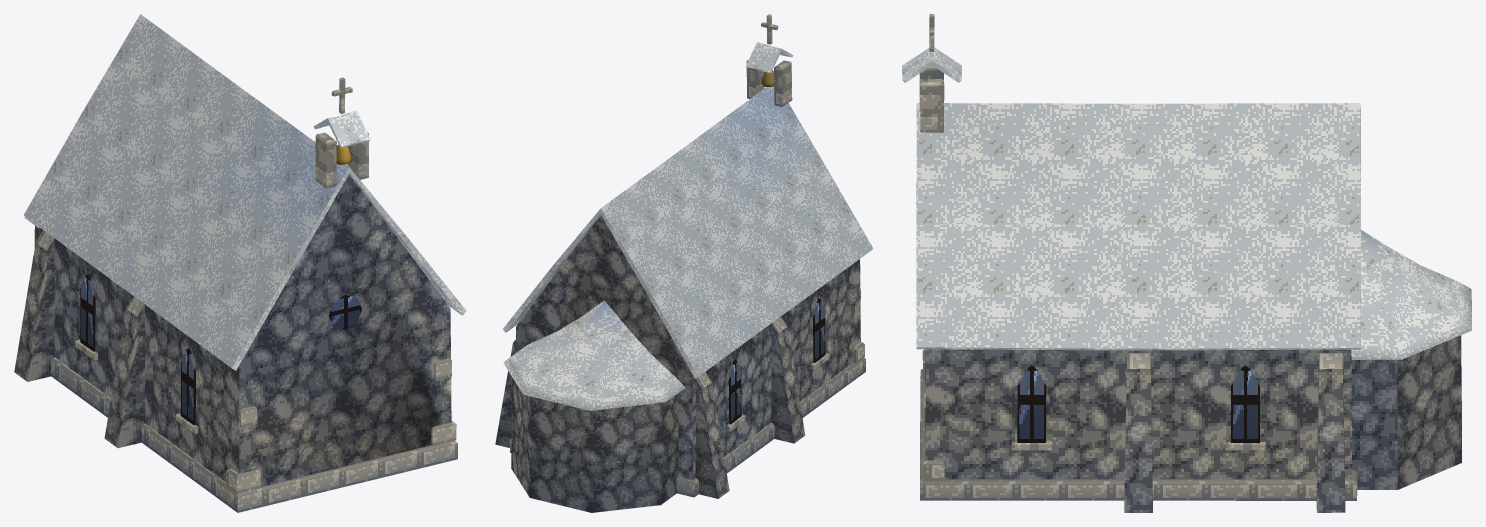
File: vlg.chapel__doorway.glb
3 views of the same model, side by side, from view 1: azimuth 30°, elevation 25°; view 2: azimuth 150°, elevation 25°; view 3: azimuth 270°, elevation 25° (orthographic). The views are drawn at different scales.
Visible parts, largest first — view 1: kit_roof, kit_walls, kit_stonework, kit_fittings; view 2: kit_roof, kit_walls, kit_stonework, kit_fittings; view 3: kit_roof, kit_walls, kit_stonework, kit_fittings.
Boxes of the visible parts, x1,y1,x2,y2 form: kit_roof: (24, 14, 466, 370); kit_walls: (34, 174, 451, 486); kit_stonework: (14, 132, 457, 512); kit_fittings: (75, 77, 361, 433); kit_roof: (503, 42, 873, 410); kit_walls: (511, 215, 860, 512); kit_stonework: (495, 59, 865, 498); kit_fittings: (727, 14, 829, 431); kit_roof: (902, 47, 1471, 359); kit_walls: (925, 335, 1461, 489); kit_stonework: (919, 65, 1357, 512); kit_fittings: (929, 14, 1265, 450).
Bounding box in the file's own units: 6.91 × 9.98 × 12.
5 materials, 4 textured.
